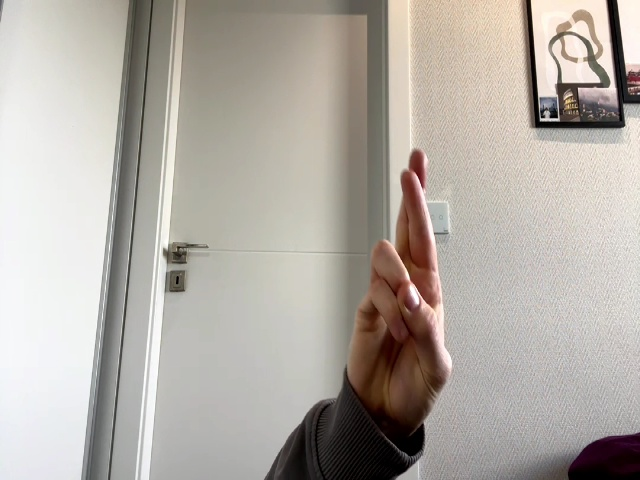R: (349, 149, 452, 398)
